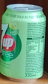sevenup: (1, 3, 45, 80)
